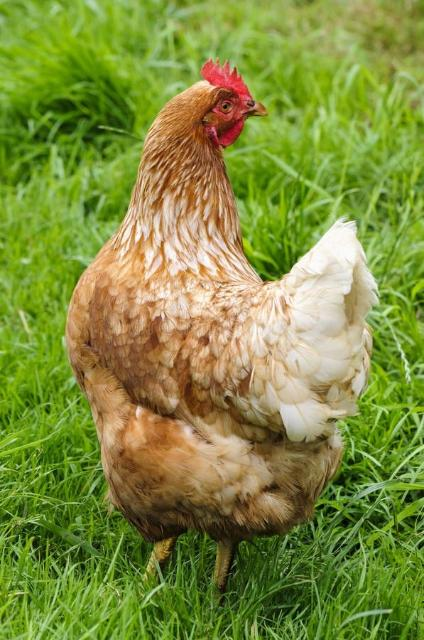Chicken: (67, 60, 380, 589)
